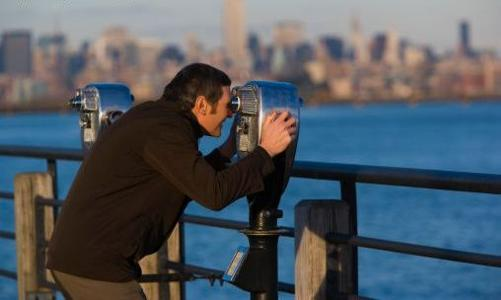person: (46, 63, 296, 300)
